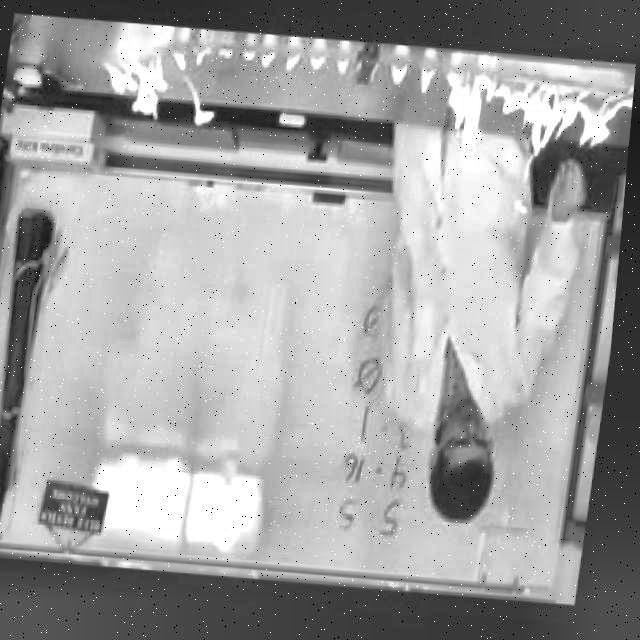Fire: (434, 62, 636, 163), (88, 39, 232, 125), (388, 58, 413, 84), (419, 64, 438, 92), (309, 50, 330, 69), (285, 54, 303, 72), (336, 56, 353, 73)
